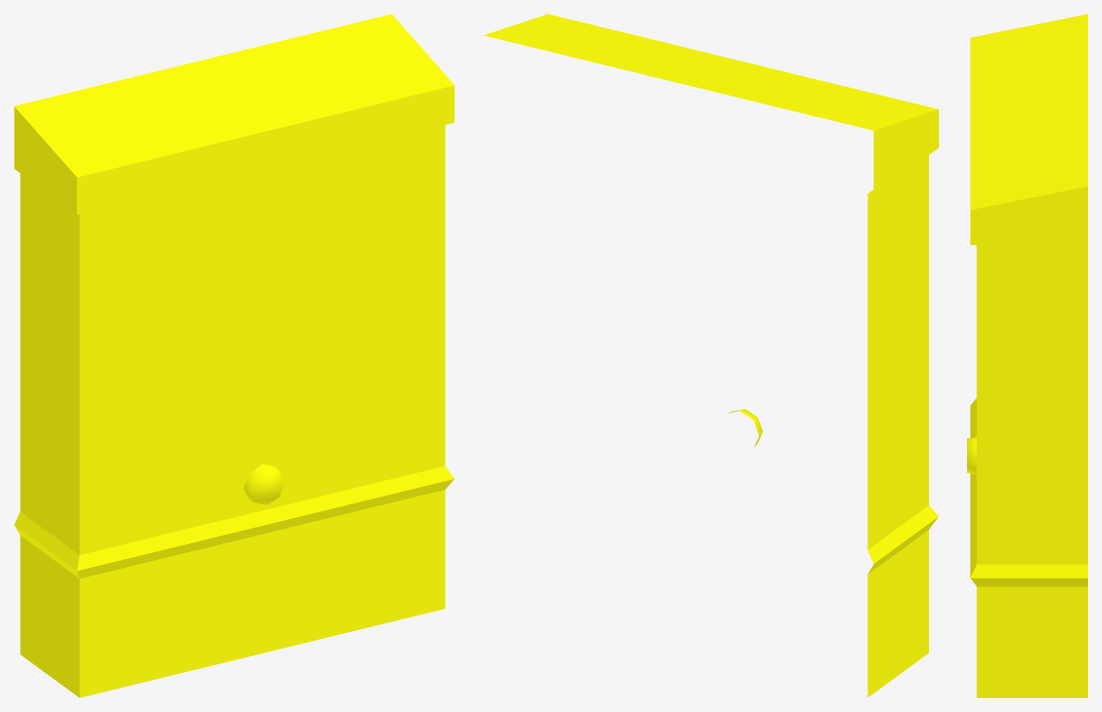
Rendered from mail_box_mx_1_1.glb.
3 renders of one model, left to right at view 1: azimuth 30°, elevation 25°; view 2: azimuth 150°, elevation 25°; view 3: azimuth 270°, elevation 25°, orthographic. The views are drawn at different scales.
Visible parts, largest first — view 1: mail_box_mx_1_1; view 2: mail_box_mx_1_1; view 3: mail_box_mx_1_1.
Boxes of the visible parts, <box> form: mail_box_mx_1_1: <box>14,14,454,697</box>; mail_box_mx_1_1: <box>483,14,938,697</box>; mail_box_mx_1_1: <box>967,14,1087,697</box>.
Size of the model in its own units: 0.312 by 0.434 by 0.0925.
Materials: 1 (1 with a texture image).
